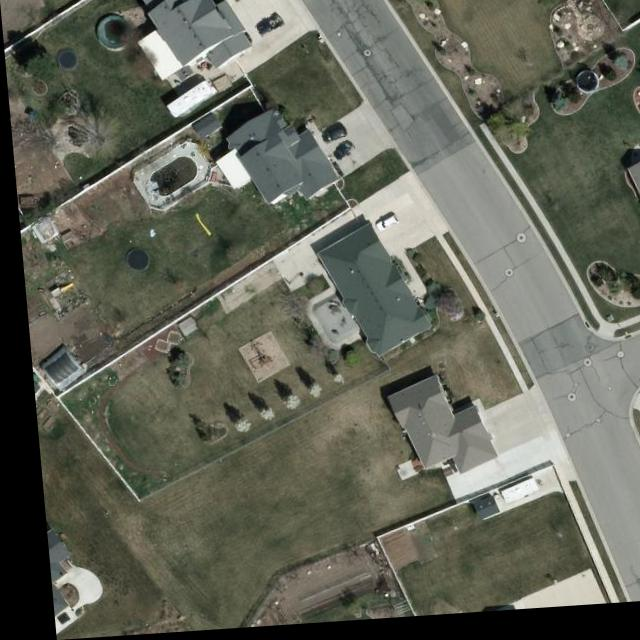vehicle: (254, 17, 285, 43), (317, 126, 347, 151), (329, 145, 353, 167), (370, 219, 396, 238)
